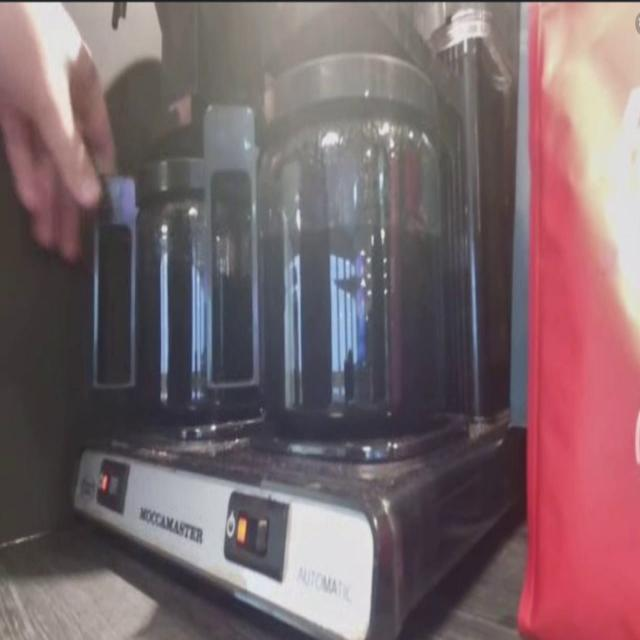coffee: (259, 50, 448, 444), (114, 107, 301, 430)
